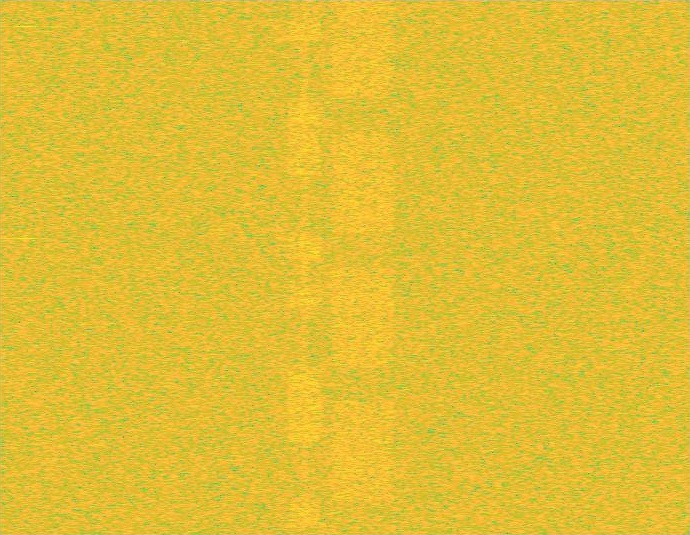5G: (328, 0, 397, 534)
DSSS: (301, 0, 309, 534)
LTE: (287, 0, 322, 534)
Radar: (20, 0, 33, 534)
